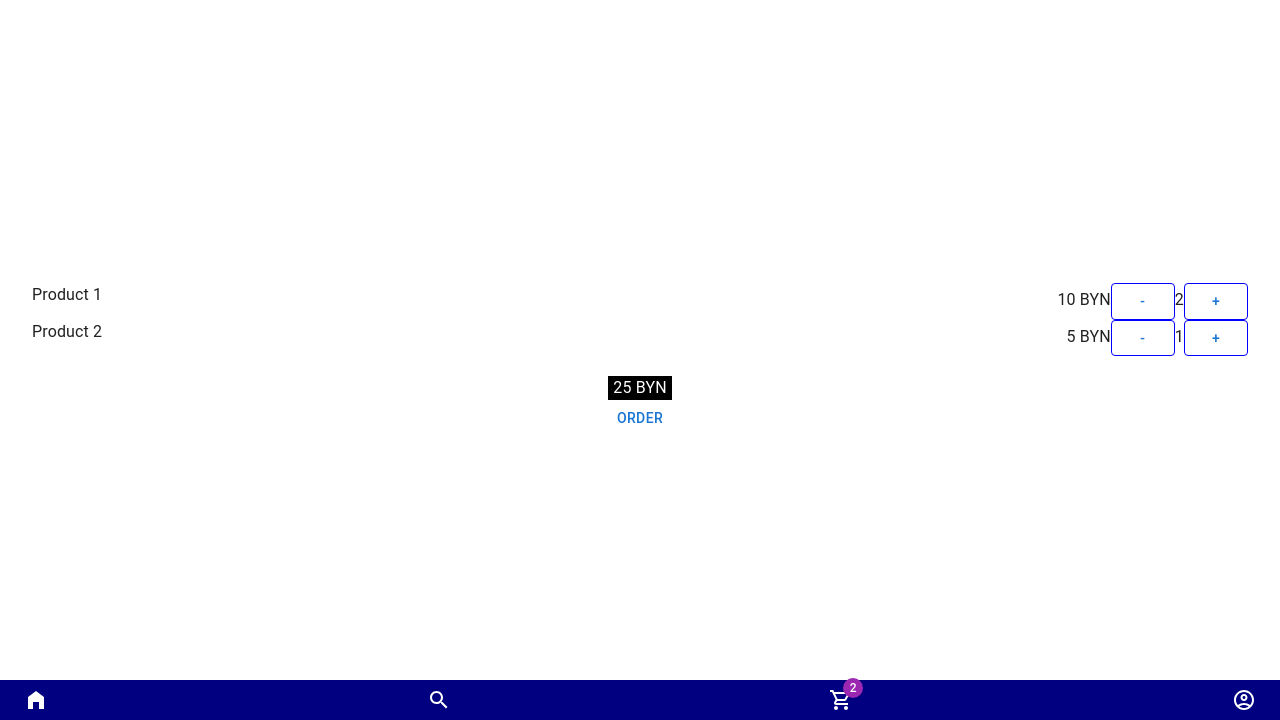
Basket Component › shows success alert after order
Step 1. Click the button "Order" → (640, 419), box x1=608 y1=400 x2=672 y2=437
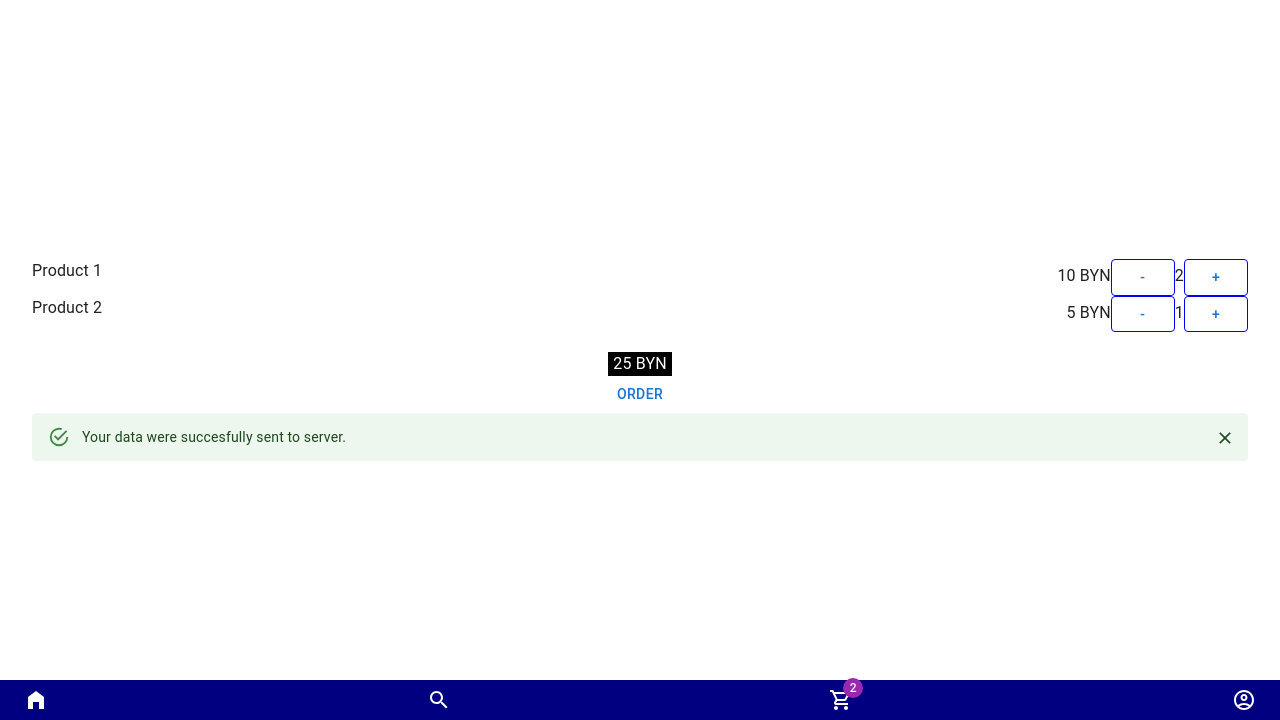
Now the text "Your data were succesfully sent to server." is shown, box x1=82 y1=429 x2=346 y2=445
